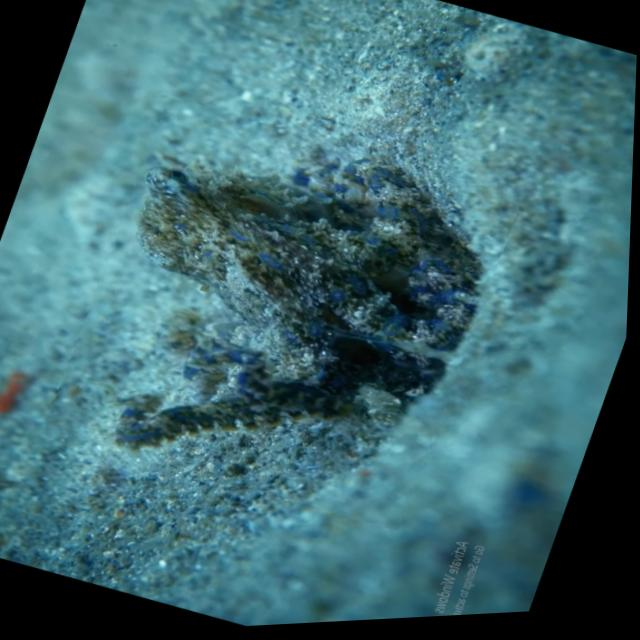blue_ringed_octopus: (45, 81, 529, 549)
